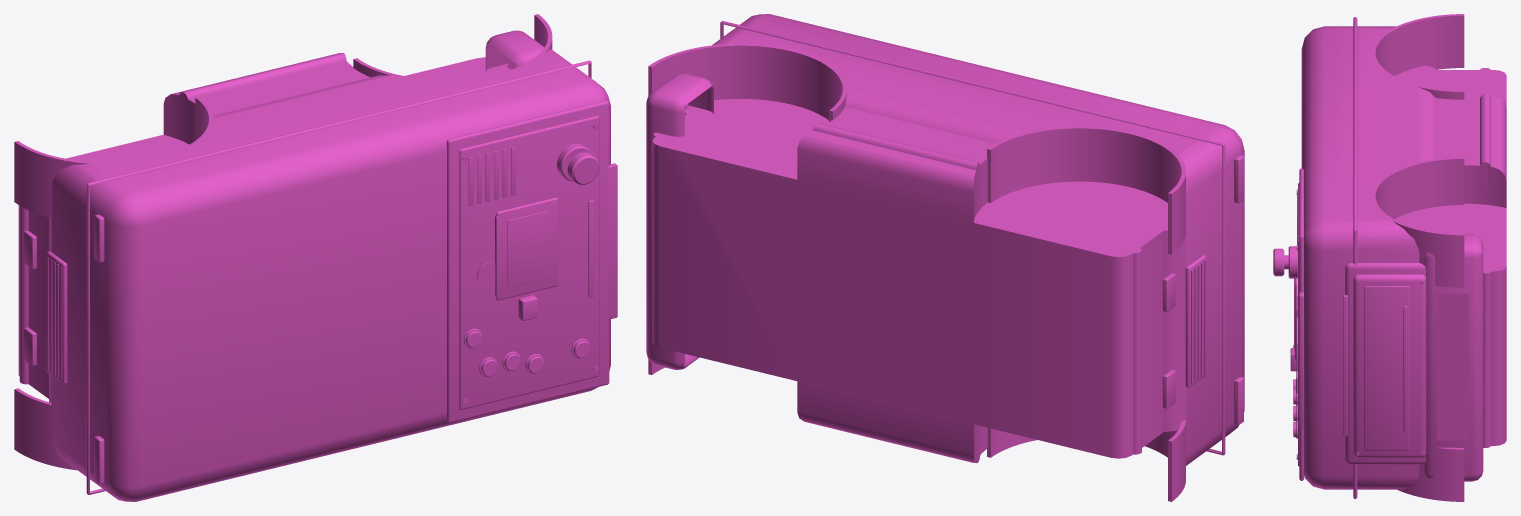
The model's file is ax_body.obj.
3 views of the same model, side by side, from view 1: azimuth 30°, elevation 25°; view 2: azimuth 150°, elevation 25°; view 3: azimuth 270°, elevation 25° (orthographic). The views are drawn at different scales.
Visible parts, largest first — view 1: AX1_Body; view 2: AX1_Body; view 3: AX1_Body.
Part boxes in pixels (bbox=[...]): AX1_Body: bbox=[14, 14, 617, 501]; AX1_Body: bbox=[646, 14, 1244, 501]; AX1_Body: bbox=[1273, 14, 1506, 501].
Size of the model in its own units: 1366 by 774 by 606.
